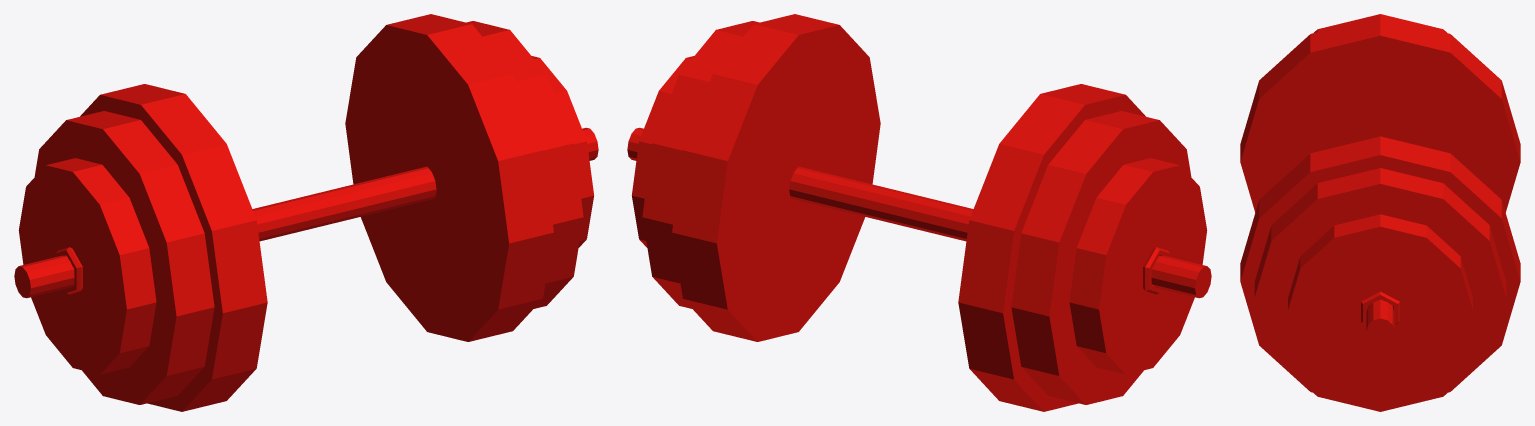
Rendered from Haltere.fbx.
The picture shows the model from 3 angles, left to right: view 1: azimuth 30°, elevation 25°; view 2: azimuth 150°, elevation 25°; view 3: azimuth 270°, elevation 25°; orthographic projection. The views are drawn at different scales.
Visible parts, largest first — view 1: Cylinder; view 2: Cylinder; view 3: Cylinder.
Boxes of the visible parts, x1,y1,x2,y2 form: Cylinder: [14, 14, 598, 411]; Cylinder: [627, 14, 1211, 411]; Cylinder: [1240, 14, 1520, 411].
Bounding box in the file's own units: 100 × 50 × 50.
